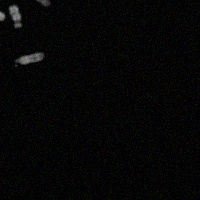chromosome: (13, 53, 45, 69), (9, 4, 25, 29), (33, 0, 50, 9), (0, 0, 6, 22)
